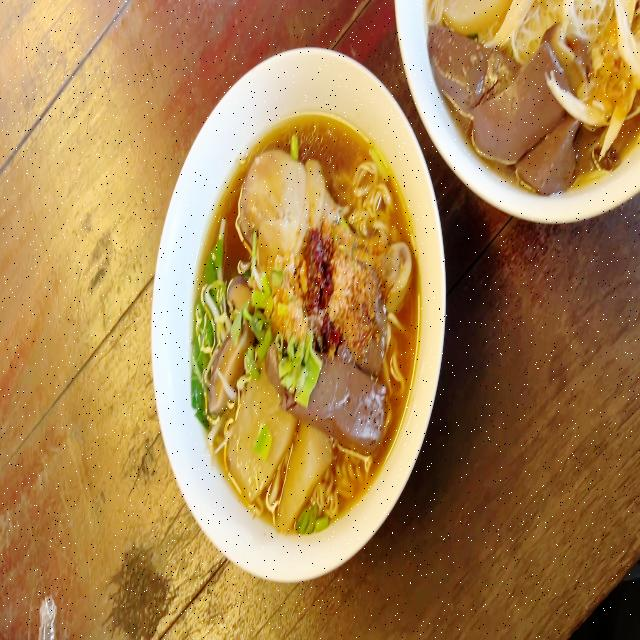boiled_chicken_blood_jelly: (433, 28, 582, 184), (315, 359, 389, 444)
chicken_drumstick: (241, 144, 408, 291)
chicken_shredded: (544, 66, 610, 131)
daikon_radish: (227, 373, 327, 508), (446, 0, 524, 26)
noodle: (187, 97, 430, 547), (406, 0, 640, 197)
